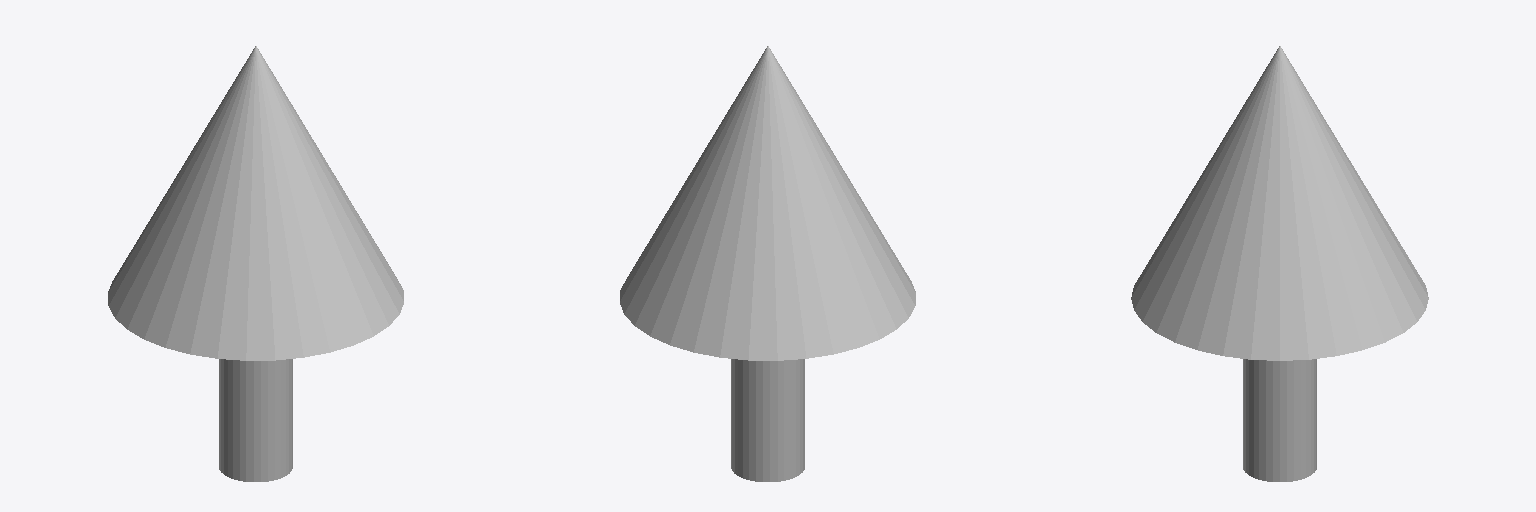
The model's file is tree.obj.
3 renders of one model, left to right at view 1: azimuth 30°, elevation 25°; view 2: azimuth 150°, elevation 25°; view 3: azimuth 270°, elevation 25°, orthographic.
Size of the model in its own units: 1.6 by 2.5 by 1.6.